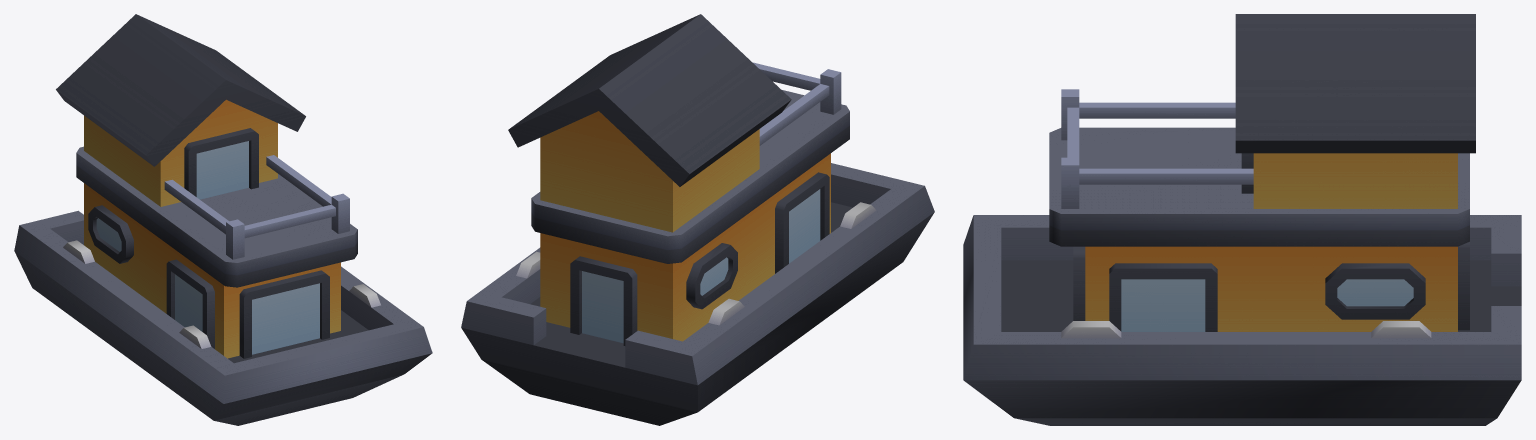
The model's file is boat_house_d.glb.
3 views of the same model, side by side, from view 1: azimuth 30°, elevation 25°; view 2: azimuth 150°, elevation 25°; view 3: azimuth 270°, elevation 25° (orthographic). The views are drawn at different scales.
Parts seen in each view (by area): view 1: boat-house-d; view 2: boat-house-d; view 3: boat-house-d.
Part boxes in pixels (x1,y1,x2,y2): boat-house-d: [14, 14, 432, 425]; boat-house-d: [461, 14, 934, 425]; boat-house-d: [963, 14, 1521, 425].
Size of the model in its own units: 2.68 by 3.44 by 4.64.
Materials: 1 (1 with a texture image).
